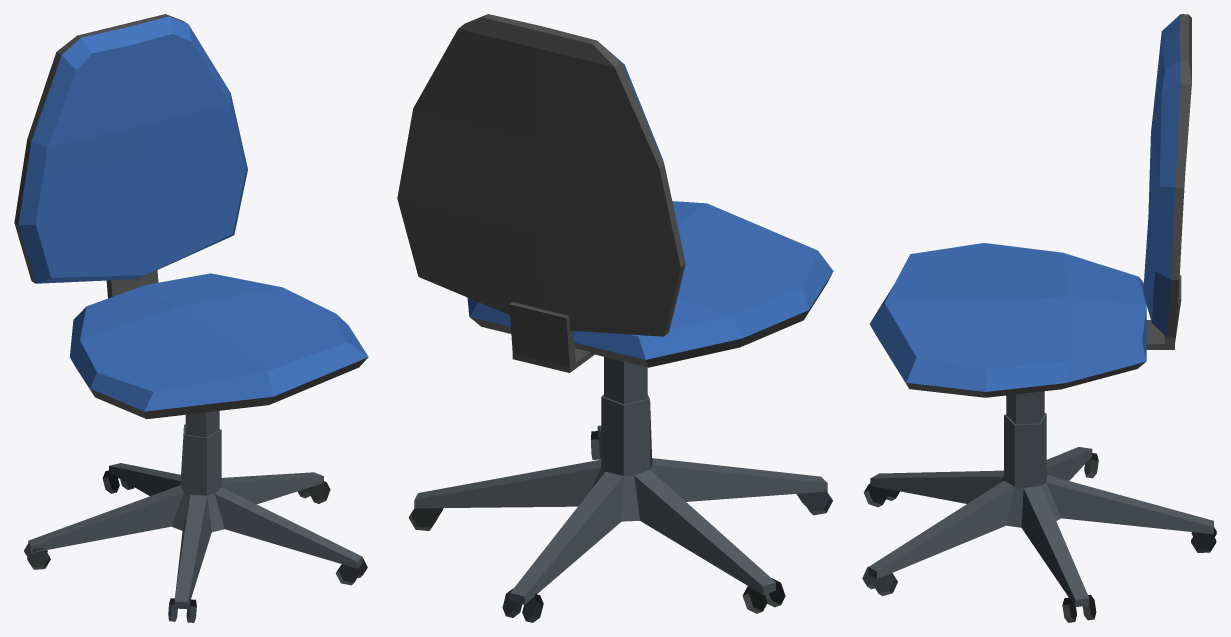
File: Kursi_Mb.fbx
The picture shows the model from 3 angles, left to right: view 1: azimuth 30°, elevation 25°; view 2: azimuth 150°, elevation 25°; view 3: azimuth 270°, elevation 25°; orthographic projection. The views are drawn at different scales.
Visible parts, largest first — view 1: Kursi_MB; view 2: Kursi_MB; view 3: Kursi_MB.
Part boxes in pixels (<box>): Kursi_MB: <box>14,14,368,622</box>; Kursi_MB: <box>397,14,833,622</box>; Kursi_MB: <box>862,14,1216,622</box>.
Bounding box in the file's own units: 95.3 × 143 × 90.33.
